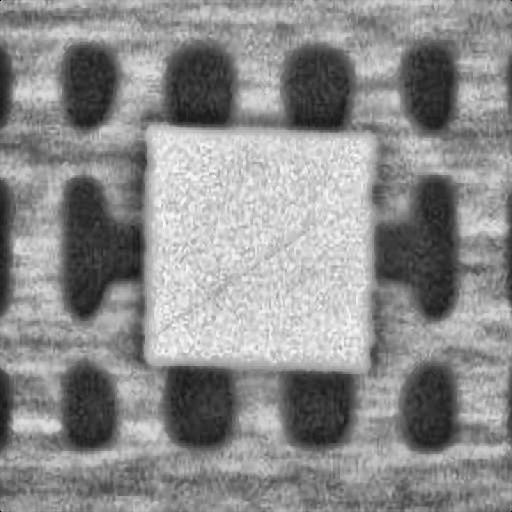DIE_CRACK: (228, 150, 459, 222)
